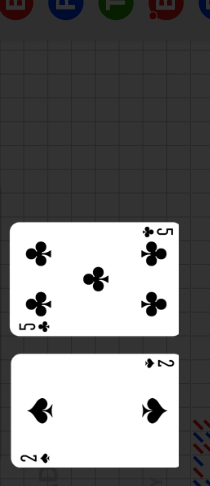2S: (142, 357, 175, 370)
5C: (140, 225, 175, 239)
